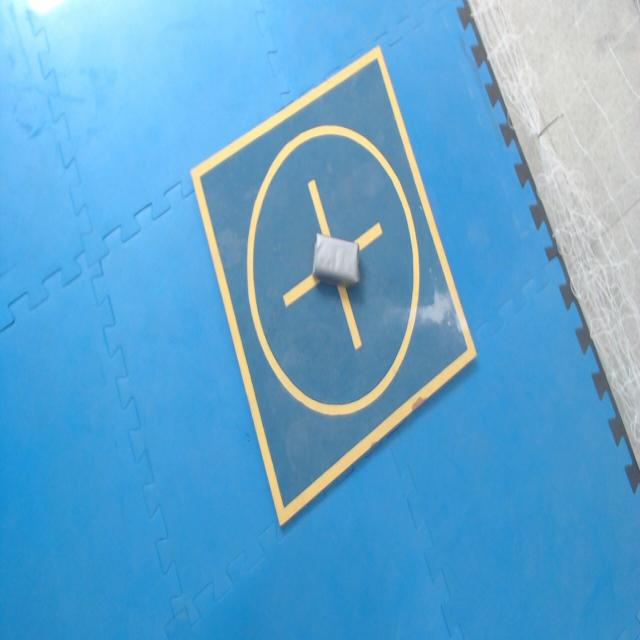esquerda: (313, 234, 359, 285)
